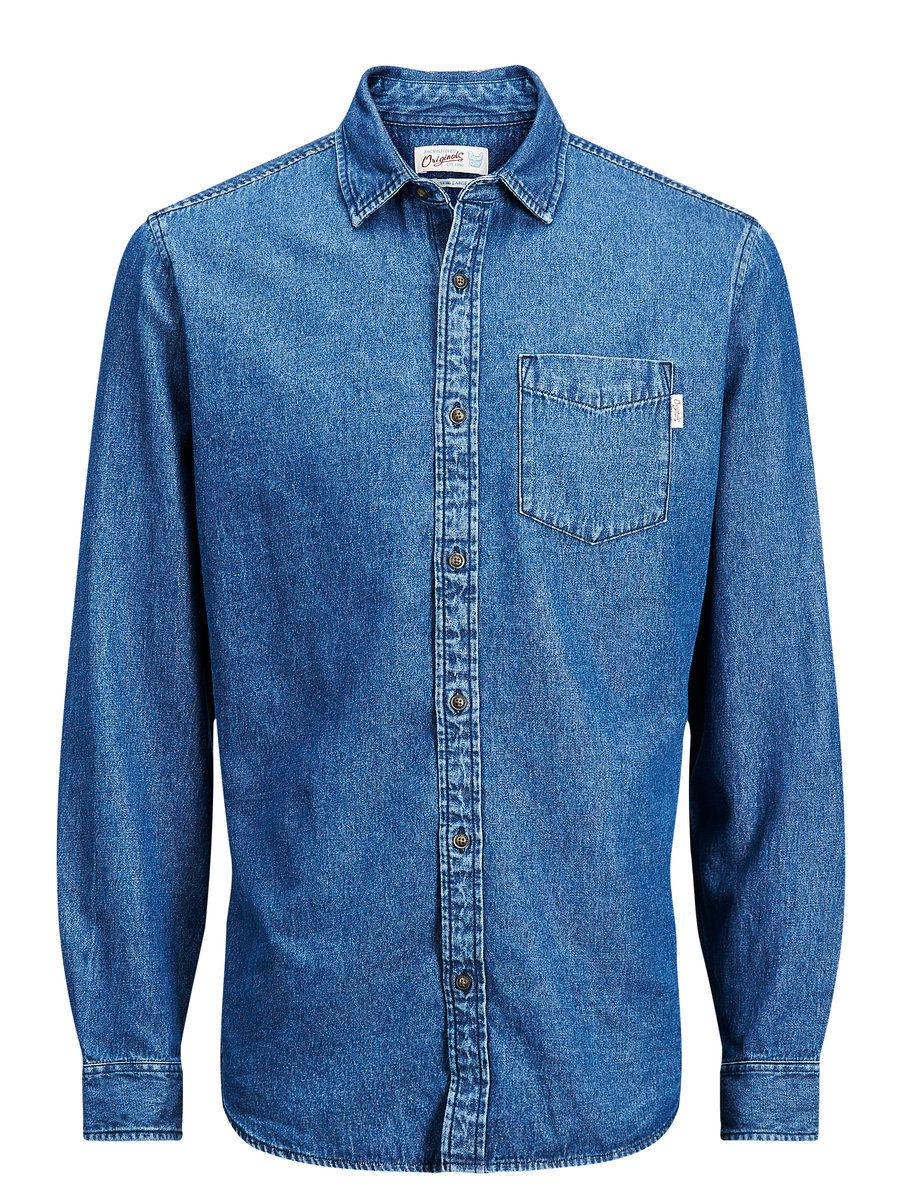teeshirt: (38, 54, 847, 1169)
